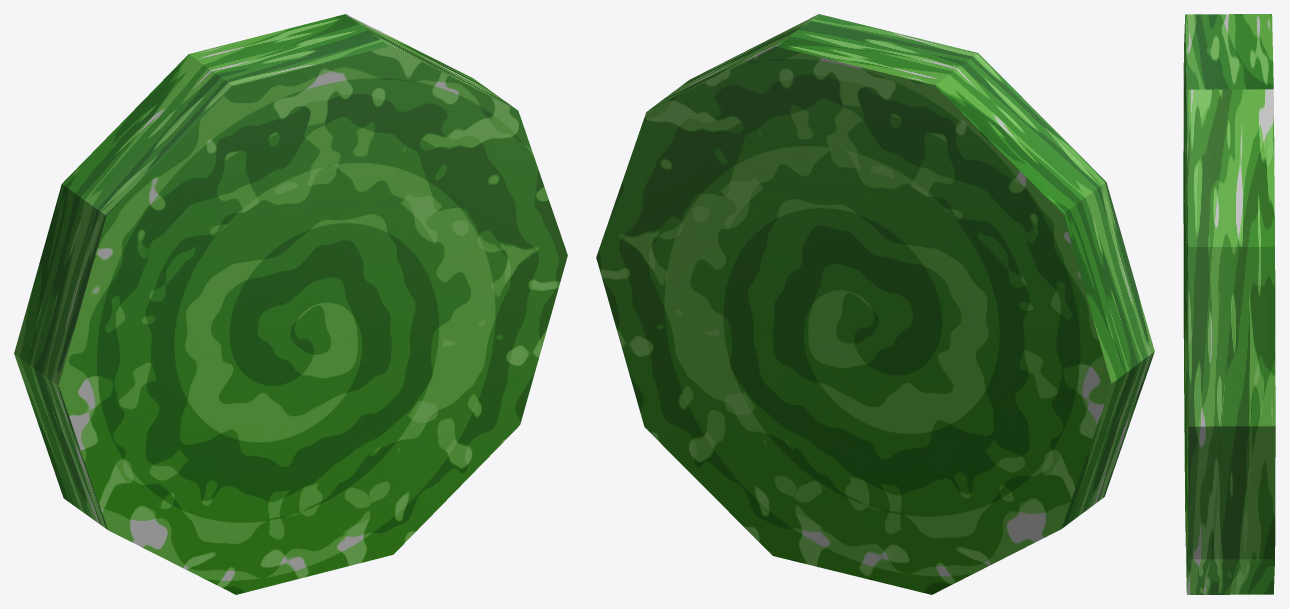
Rendered from Portal.fbx.
The picture shows the model from 3 angles, left to right: view 1: azimuth 30°, elevation 25°; view 2: azimuth 150°, elevation 25°; view 3: azimuth 270°, elevation 25°; orthographic projection.
Visible parts, largest first — view 1: Cylinder; view 2: Cylinder; view 3: Cylinder.
Boxes of the visible parts, x1,y1,x2,y2 form: Cylinder: [14, 14, 567, 594]; Cylinder: [596, 14, 1154, 594]; Cylinder: [1183, 14, 1275, 594].
Size of the model in its own units: 144 by 137 by 22.69.
